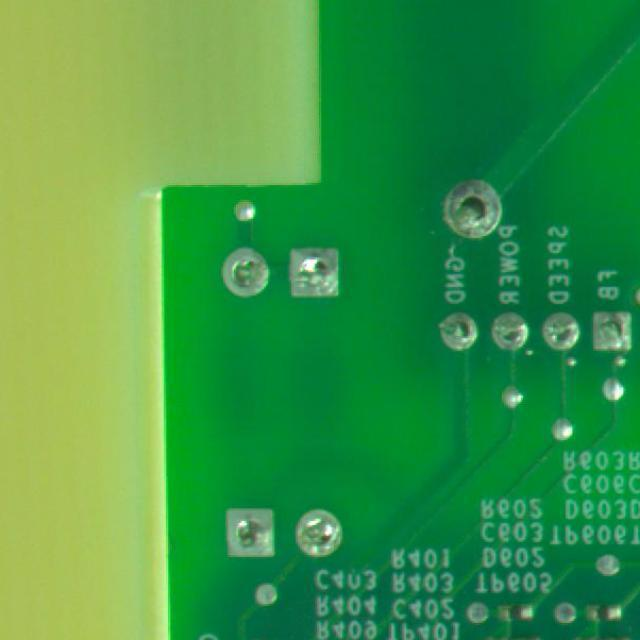Insufficient solder: (434, 171, 516, 252), (278, 232, 353, 312), (212, 504, 286, 568), (291, 488, 353, 562), (214, 239, 276, 300), (587, 292, 640, 358), (490, 297, 534, 357), (430, 316, 490, 358), (540, 303, 585, 355)
